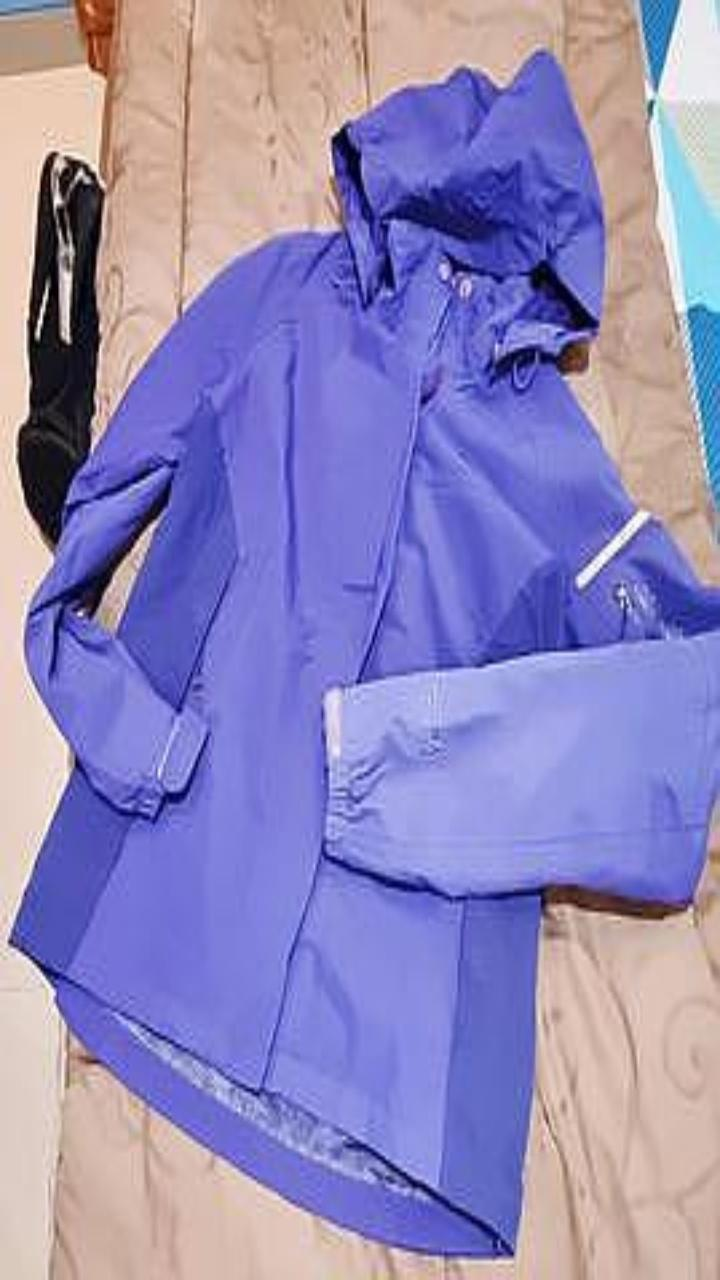Sports_Jacket: (13, 51, 719, 1255)
